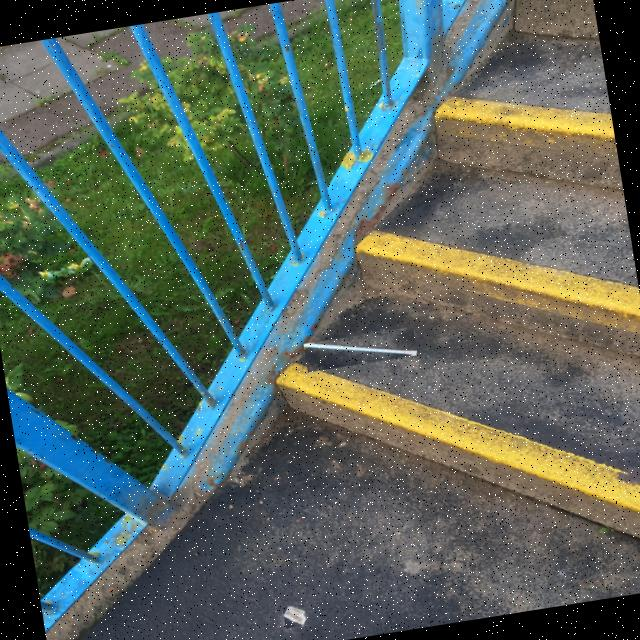Plastic straw: (304, 344, 417, 356)
Unlabeled litter: (284, 607, 307, 626)
